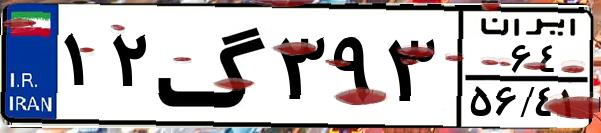1: (57, 26, 110, 100), (560, 70, 590, 125)
2: (110, 28, 156, 98)
3: (270, 28, 330, 110), (385, 28, 445, 110)
4: (537, 27, 568, 80), (535, 70, 560, 125)
5: (470, 70, 495, 125)
6: (508, 27, 537, 80), (495, 70, 520, 125)
9: (330, 28, 385, 110)
گ: (156, 12, 270, 120)
